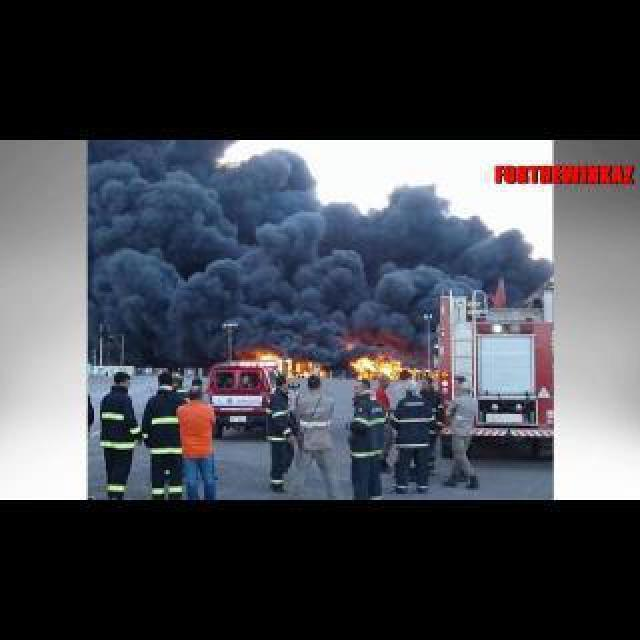Fire: (354, 356, 430, 382), (262, 354, 326, 376)
Smoke: (138, 156, 462, 358)
